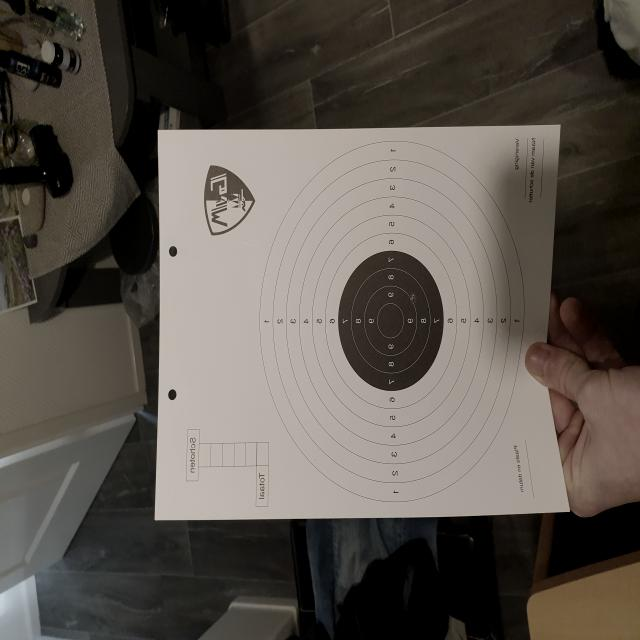9: (408, 292, 416, 304)
Target: (259, 142, 525, 506)
black_contour: (338, 252, 443, 392)
